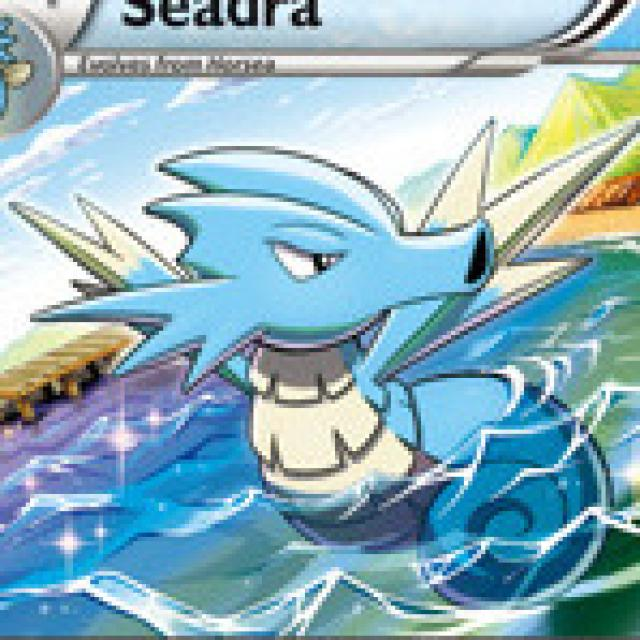Seadra: (99, 143, 598, 601)
